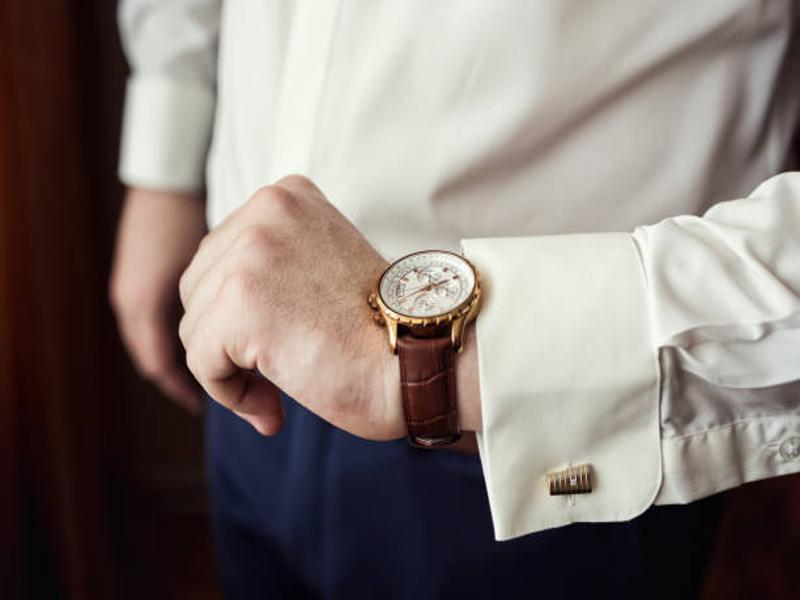watch: (369, 248, 485, 451)
